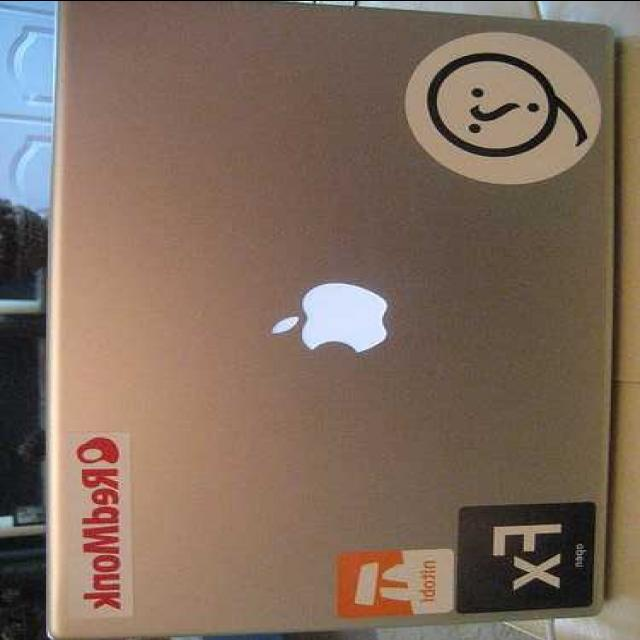laptop: (63, 0, 616, 618)
